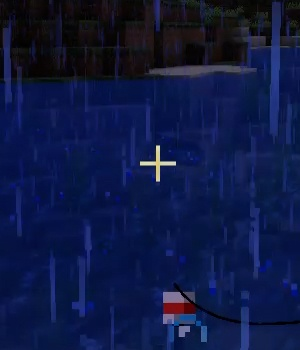up: (163, 284, 200, 331)
